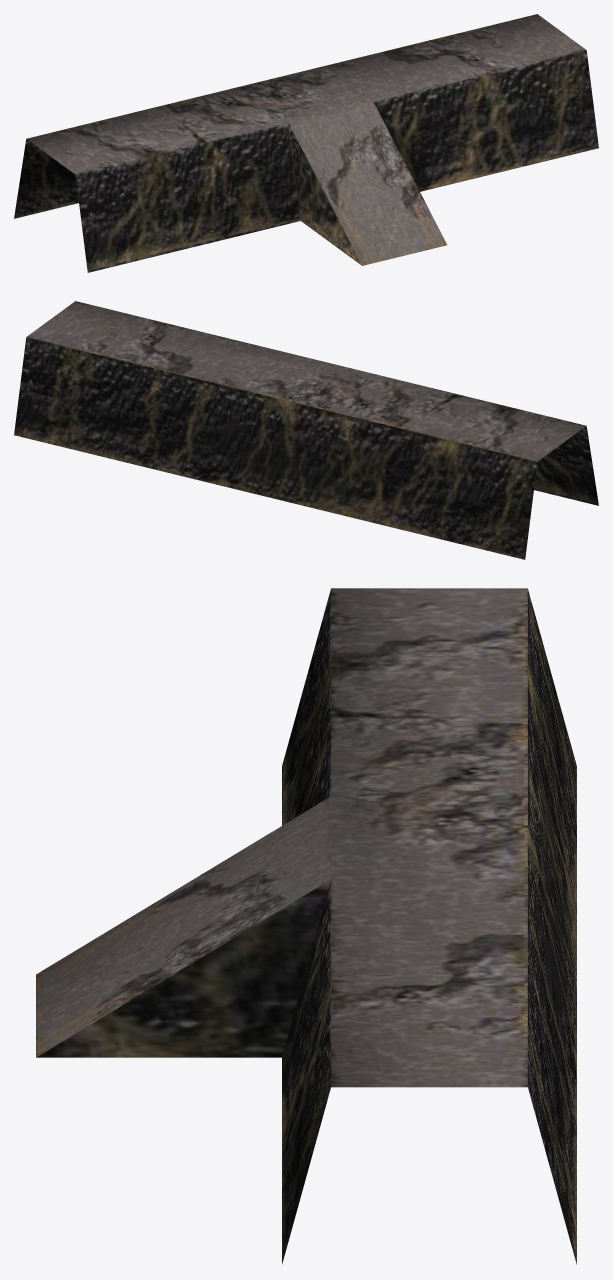
File: TarBermRamp.fbx
The picture shows the model from 3 angles, top to bottom: view 1: azimuth 30°, elevation 25°; view 2: azimuth 150°, elevation 25°; view 3: azimuth 270°, elevation 25°; orthographic projection. The views are drawn at different scales.
Parts seen in each view (by area): view 1: berm_flat_ramp; view 2: berm_flat_ramp; view 3: berm_flat_ramp.
Boxes of the visible parts, left/top/right/bottom form: berm_flat_ramp: left=14, top=14, right=598, bottom=272; berm_flat_ramp: left=14, top=301, right=598, bottom=559; berm_flat_ramp: left=36, top=588, right=576, bottom=1264.
Bounding box in the file's own units: 1200 × 200 × 550.
